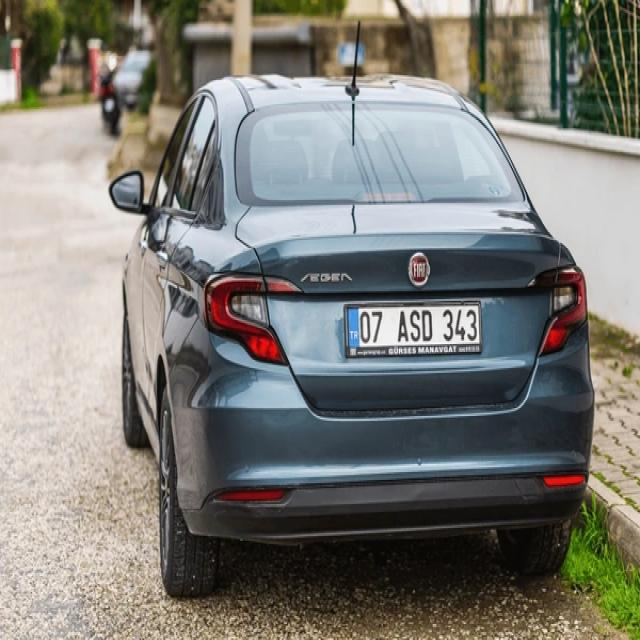fiat: (409, 251, 432, 286)
